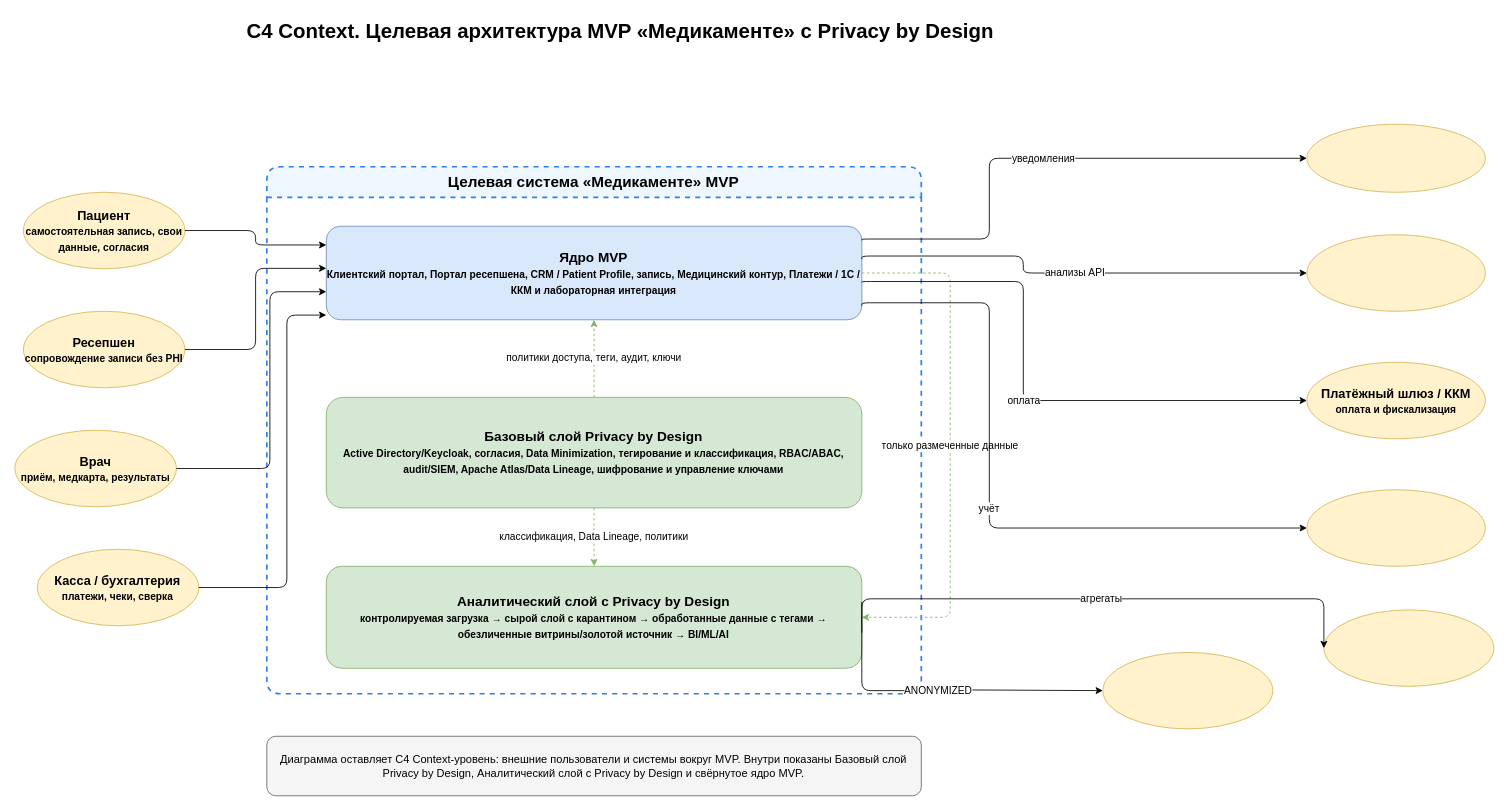
This 1509x811 diagram has some shape labels left out. The centre of each missing label's shape, as x and y in pixels:
1С бэк-офис бухгалтерия, склад, HR: [1395,527]
Бизнес-аналитик BI/ML/AI без сырых PHI: [1187,690]
Внешняя лаборатория результаты анализов: [1395,272]
Руководство агрегированные отчёты: [1408,647]
Сервис уведомлений push/SMS/voice: [1395,157]
